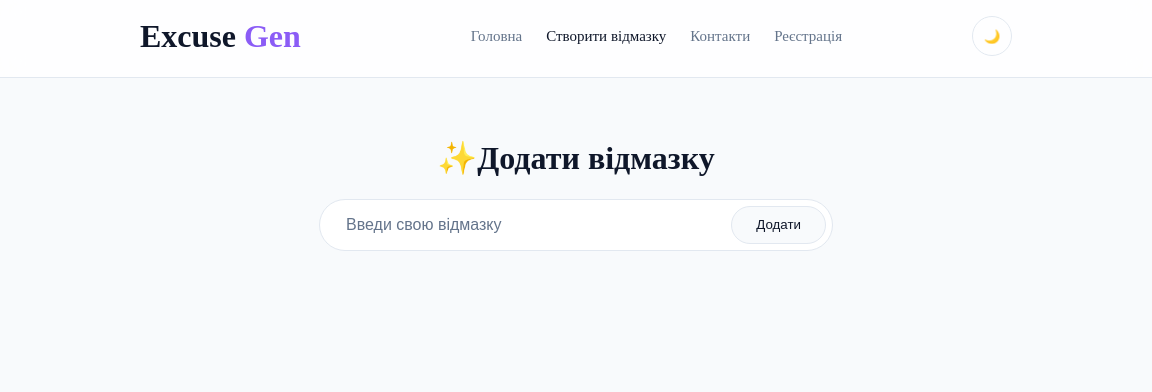
Test: Сторінка додавання відмазок › 4. Успішно створює нову відмазку і додає її
Type "Кіт перегриз кабль інтернету!" into the field with placeholder "Введи свою відмазку".
click(529, 225); type("Кіт перегриз кабль інтернету!")  # box x1=326 y1=206 x2=731 y2=244
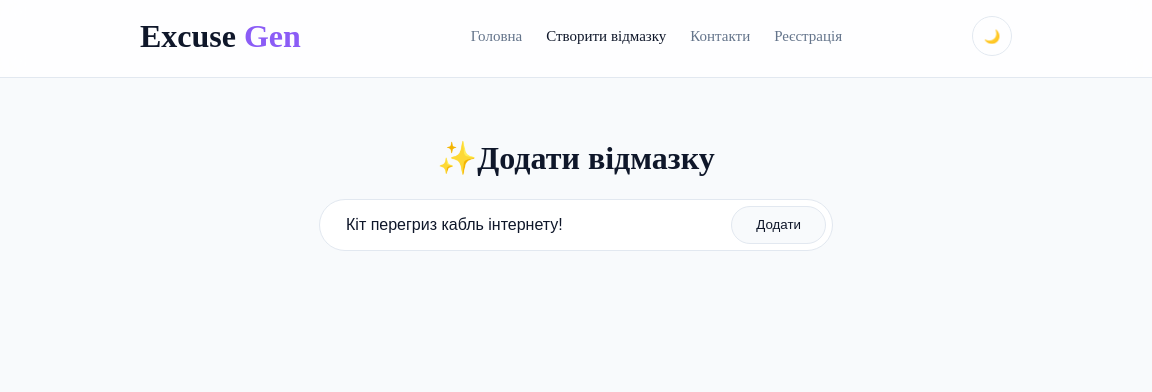
Click the button "Додати".
click(779, 225)  # box x1=731 y1=206 x2=826 y2=244
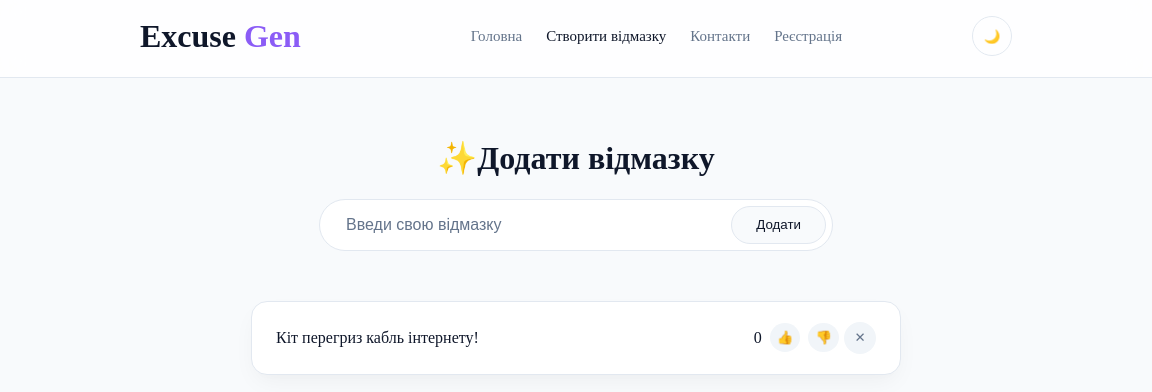
Now the text "Кіт перегриз кабль інтернету!" is shown, box x1=276 y1=329 x2=495 y2=347
